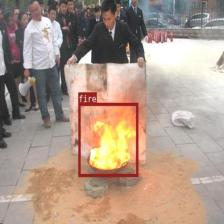fire: (78, 102, 138, 176)
